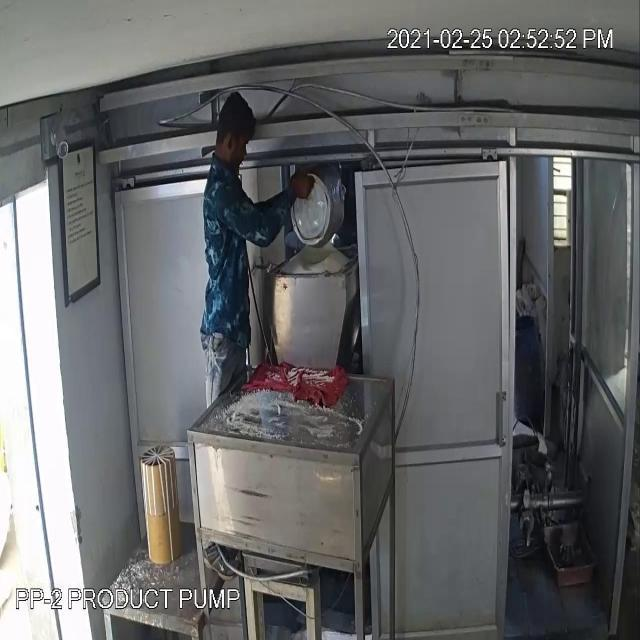no hat: (215, 89, 263, 162)
